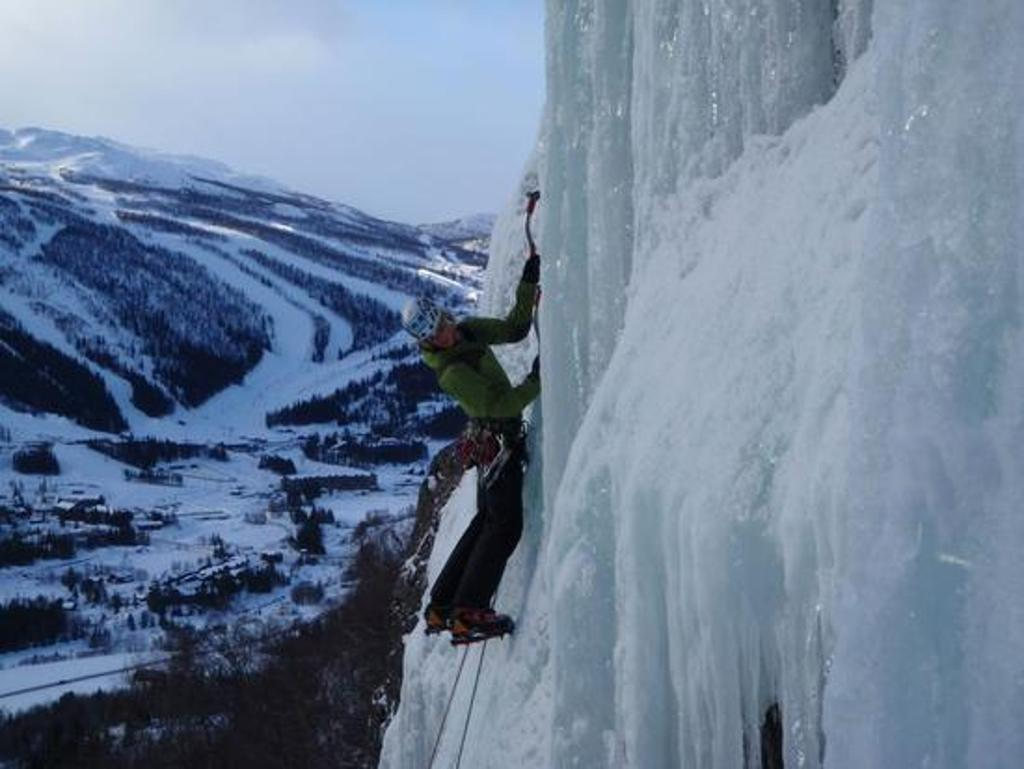face: (418, 322, 454, 348)
